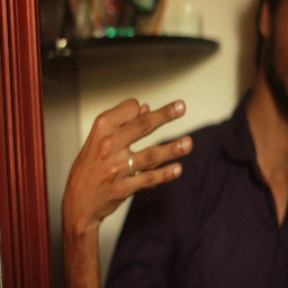K: (65, 98, 196, 217)
